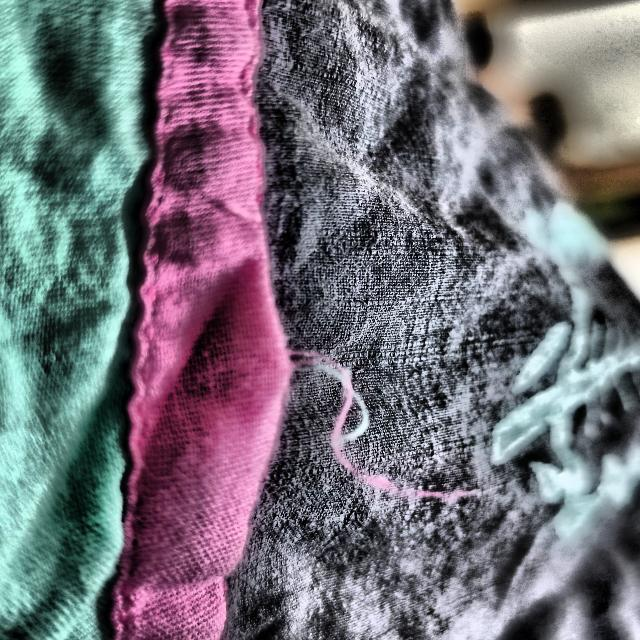gray stitch: (233, 285, 509, 609)
